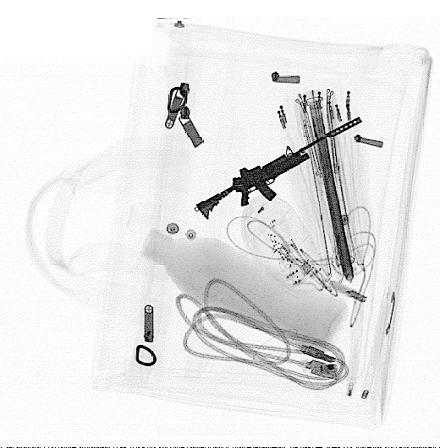Gun: (196, 117, 363, 219)
